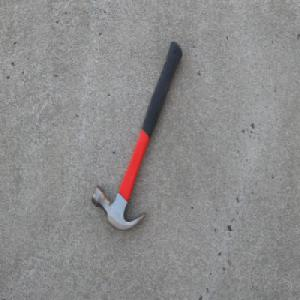Hammer: (90, 39, 183, 232)
